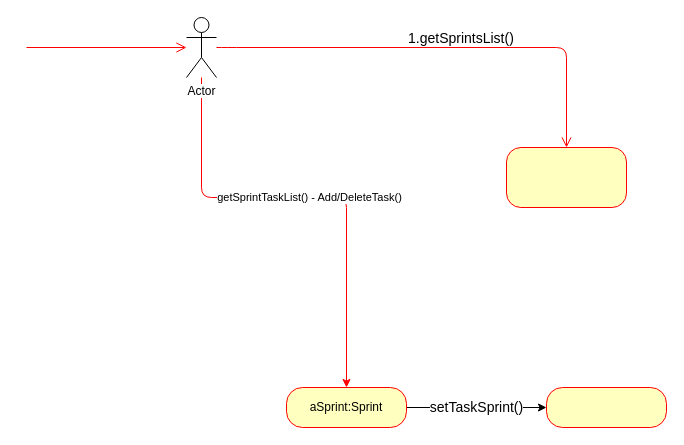
Image size: 684x445. Some labels were removed from this diagram. Here are the shapes that lost their labels. From the top down, the box of each, then its label:
(506, 146, 626, 208): aProject:Project
(546, 386, 666, 428): aTask:Task
